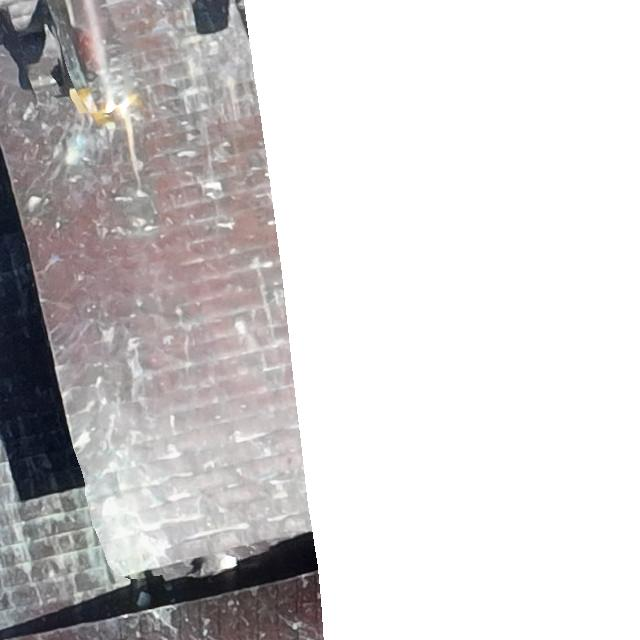umineko: (192, 553, 236, 580)
